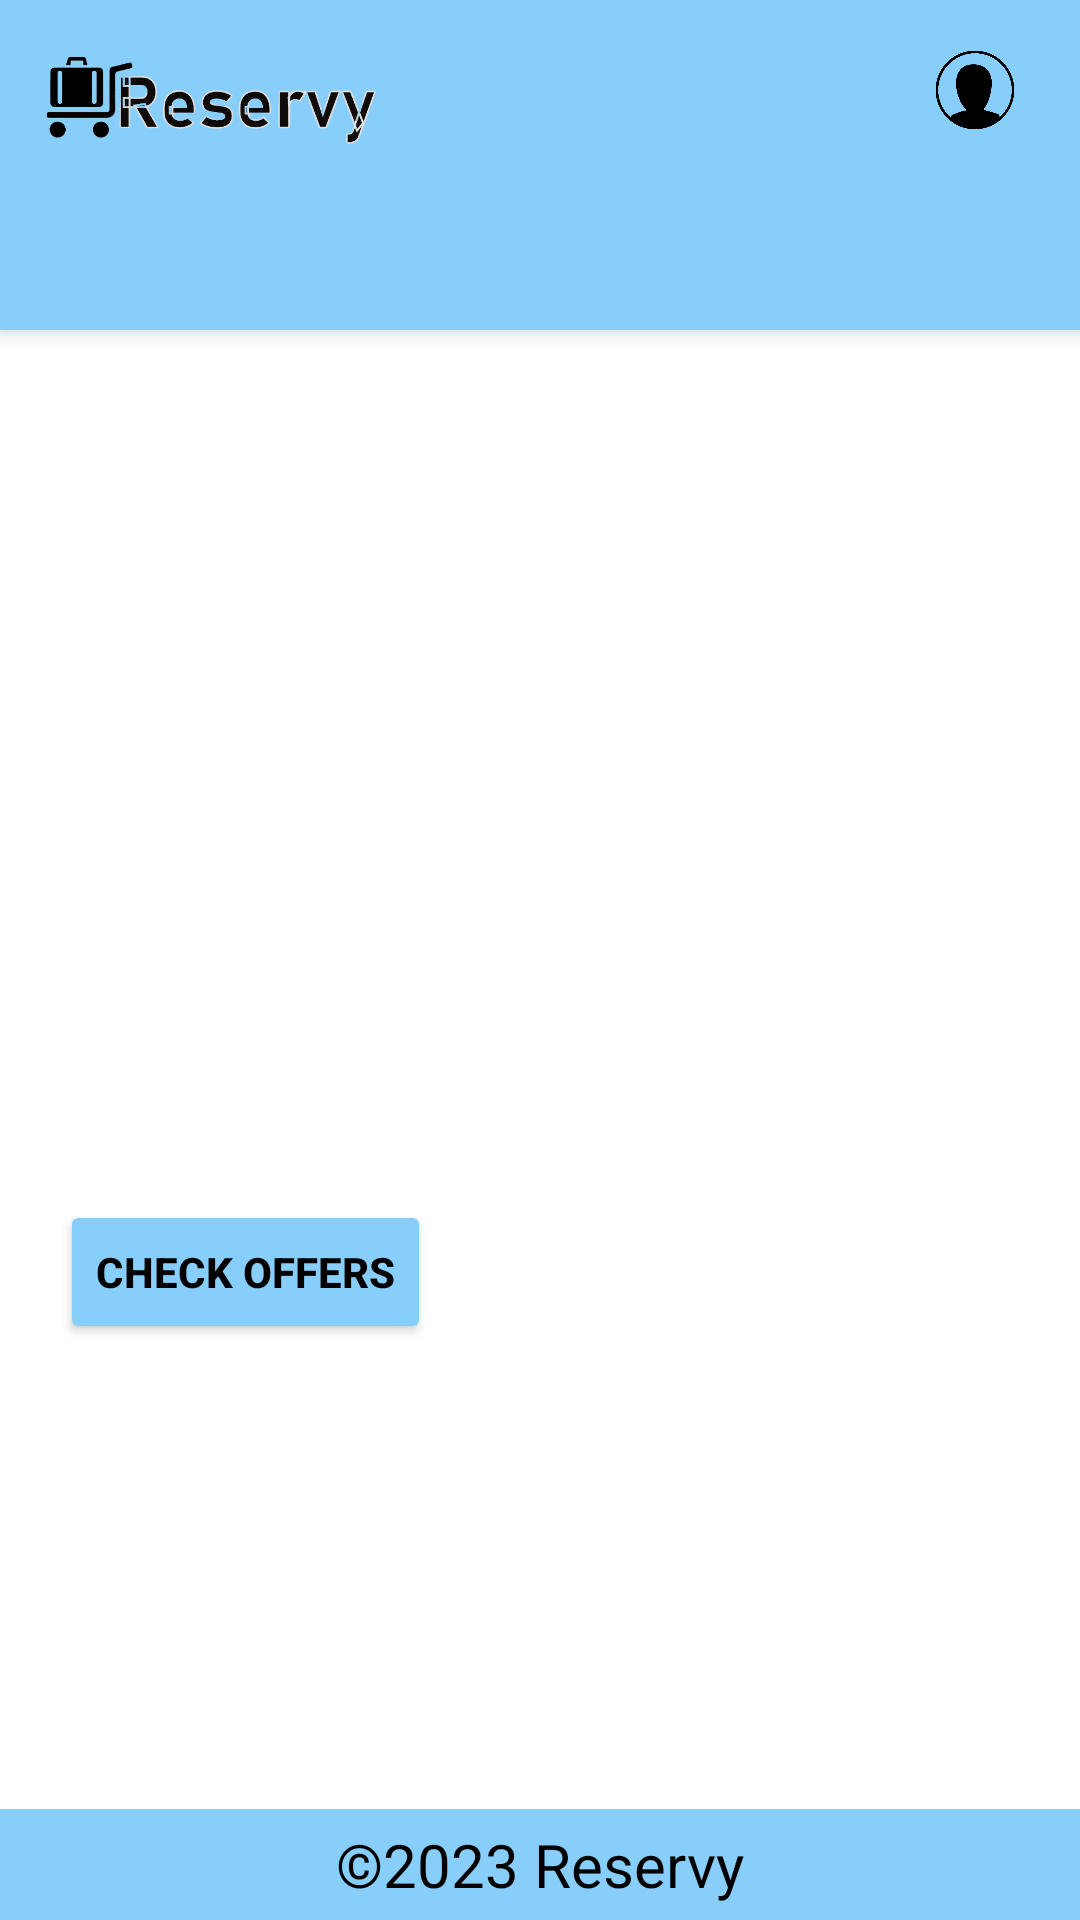

Icon click points for this 1080px x 1920px phone screenshot, format point (x, y):
person: point (975, 90)
